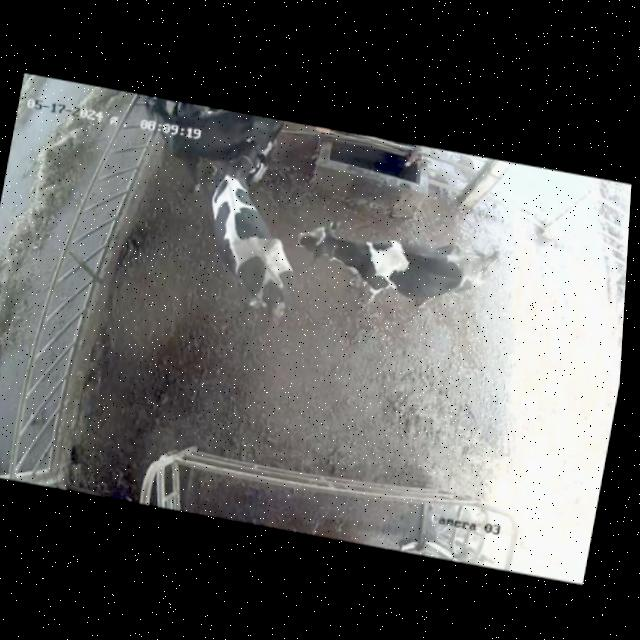stand: (276, 193, 513, 344), (189, 130, 319, 331), (137, 95, 294, 191)
